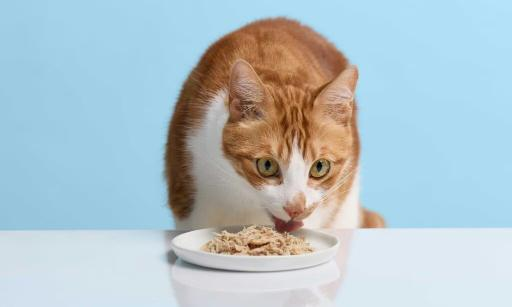cat_eating: (164, 18, 384, 292)
